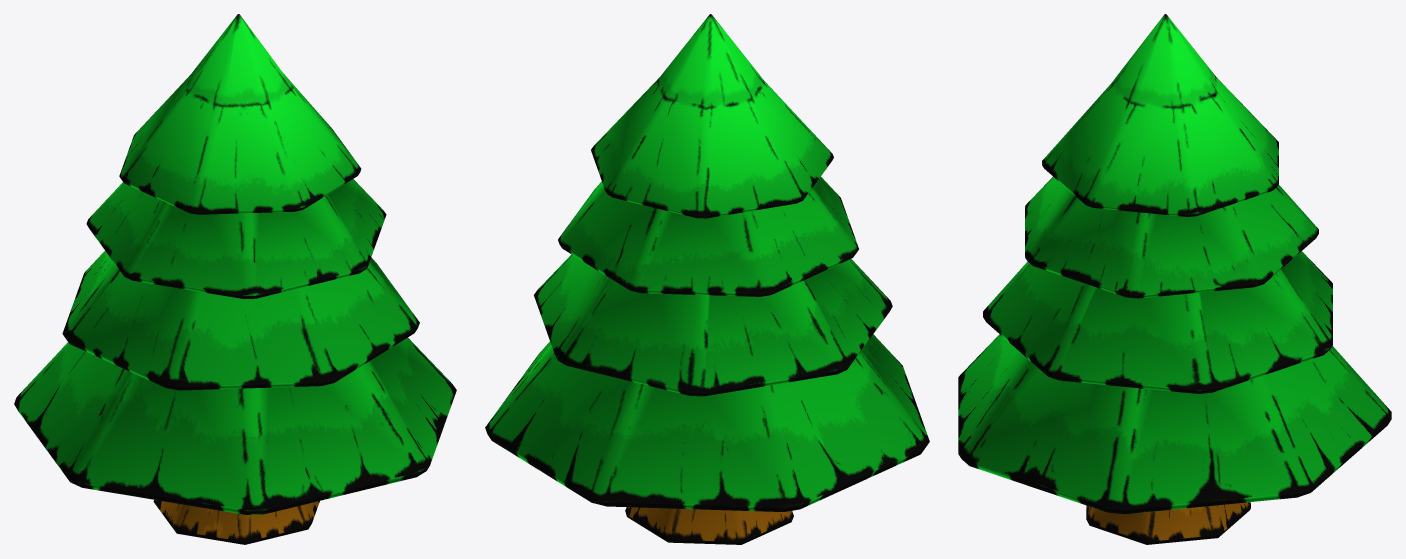
The model's file is tree_1.fbx.
3 views of the same model, side by side, from view 1: azimuth 30°, elevation 25°; view 2: azimuth 150°, elevation 25°; view 3: azimuth 270°, elevation 25° (orthographic).
Visible parts, largest first — view 1: tree_1; view 2: tree_1; view 3: tree_1.
Boxes of the visible parts, x1,y1,x2,y2 form: tree_1: (14, 14, 456, 544); tree_1: (485, 14, 929, 544); tree_1: (958, 14, 1391, 544).
Size of the model in its own units: 259 by 318 by 252.
